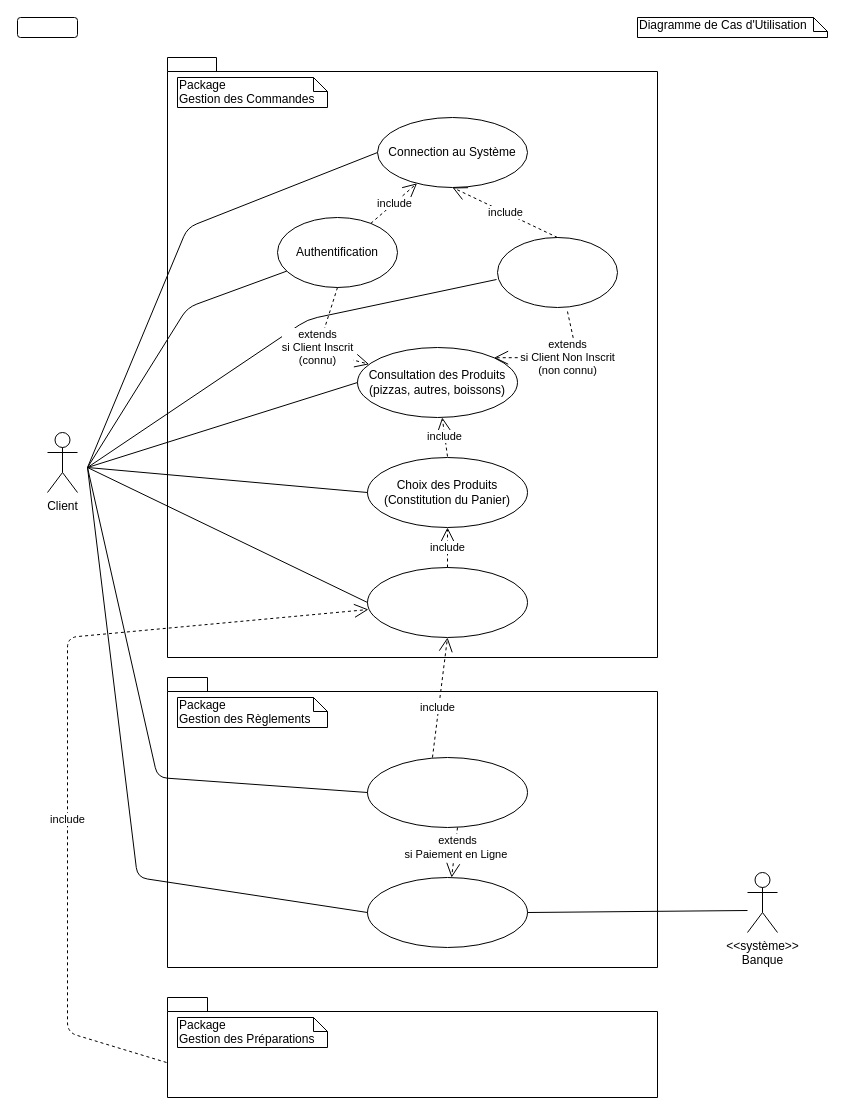
Image size: 845x1115. Some labels were removed from this diagram. Each missing label, with the centre of its shape:
Choix Mode de Paiement (en Ligne, à la Livraison): point 447,792
Inscription: point 557,272
OC'Pizza: point 47,27
Paiement en Ligne: point 447,912
Validation Commande (Acceptation du Panier): point 447,602
